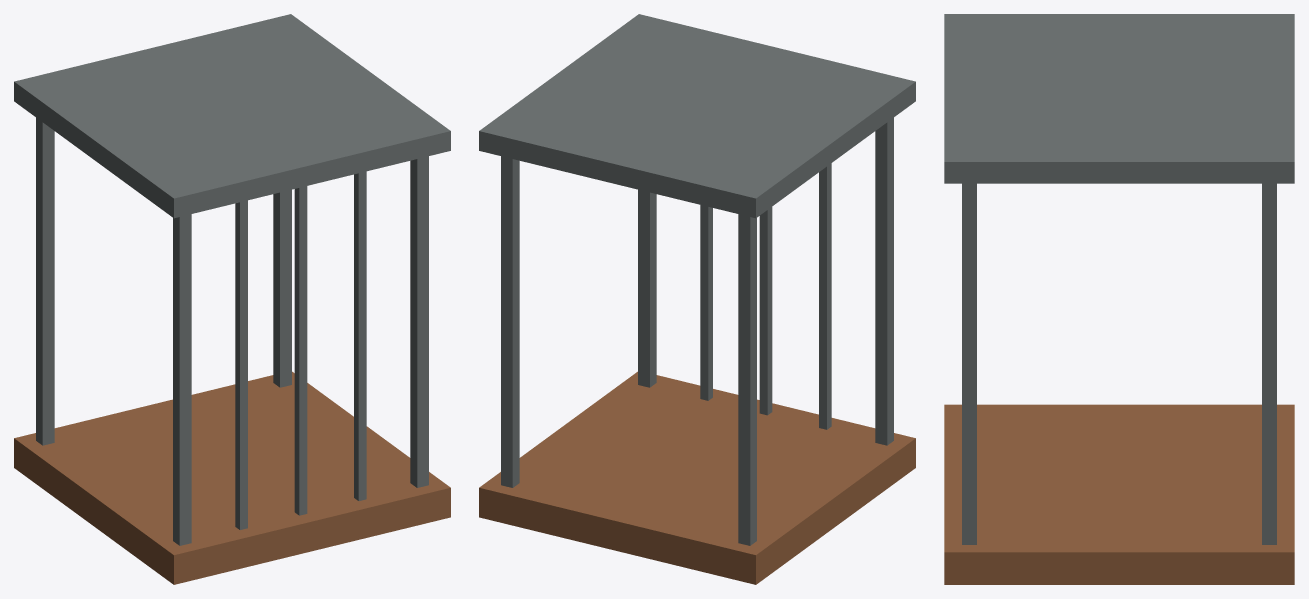
Rendered from board_elevador_gaiola.glb.
3 renders of one model, left to right at view 1: azimuth 30°, elevation 25°; view 2: azimuth 150°, elevation 25°; view 3: azimuth 270°, elevation 25°, orthographic. The views are drawn at different scales.
Visible parts, largest first — view 1: board_elevador_gaiola; view 2: board_elevador_gaiola; view 3: board_elevador_gaiola.
Part boxes in pixels (<box>): board_elevador_gaiola: <box>14,14,450,584</box>; board_elevador_gaiola: <box>479,14,915,584</box>; board_elevador_gaiola: <box>944,14,1294,584</box>.
Size of the model in its own units: 3 by 4 by 3.
